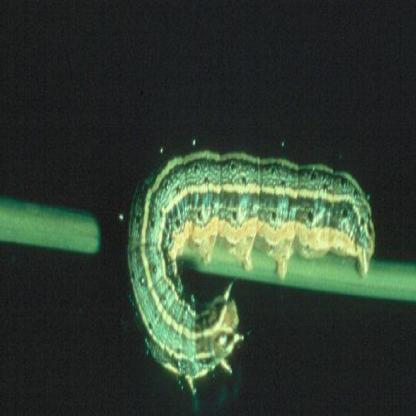armyworm: (126, 135, 376, 391)
